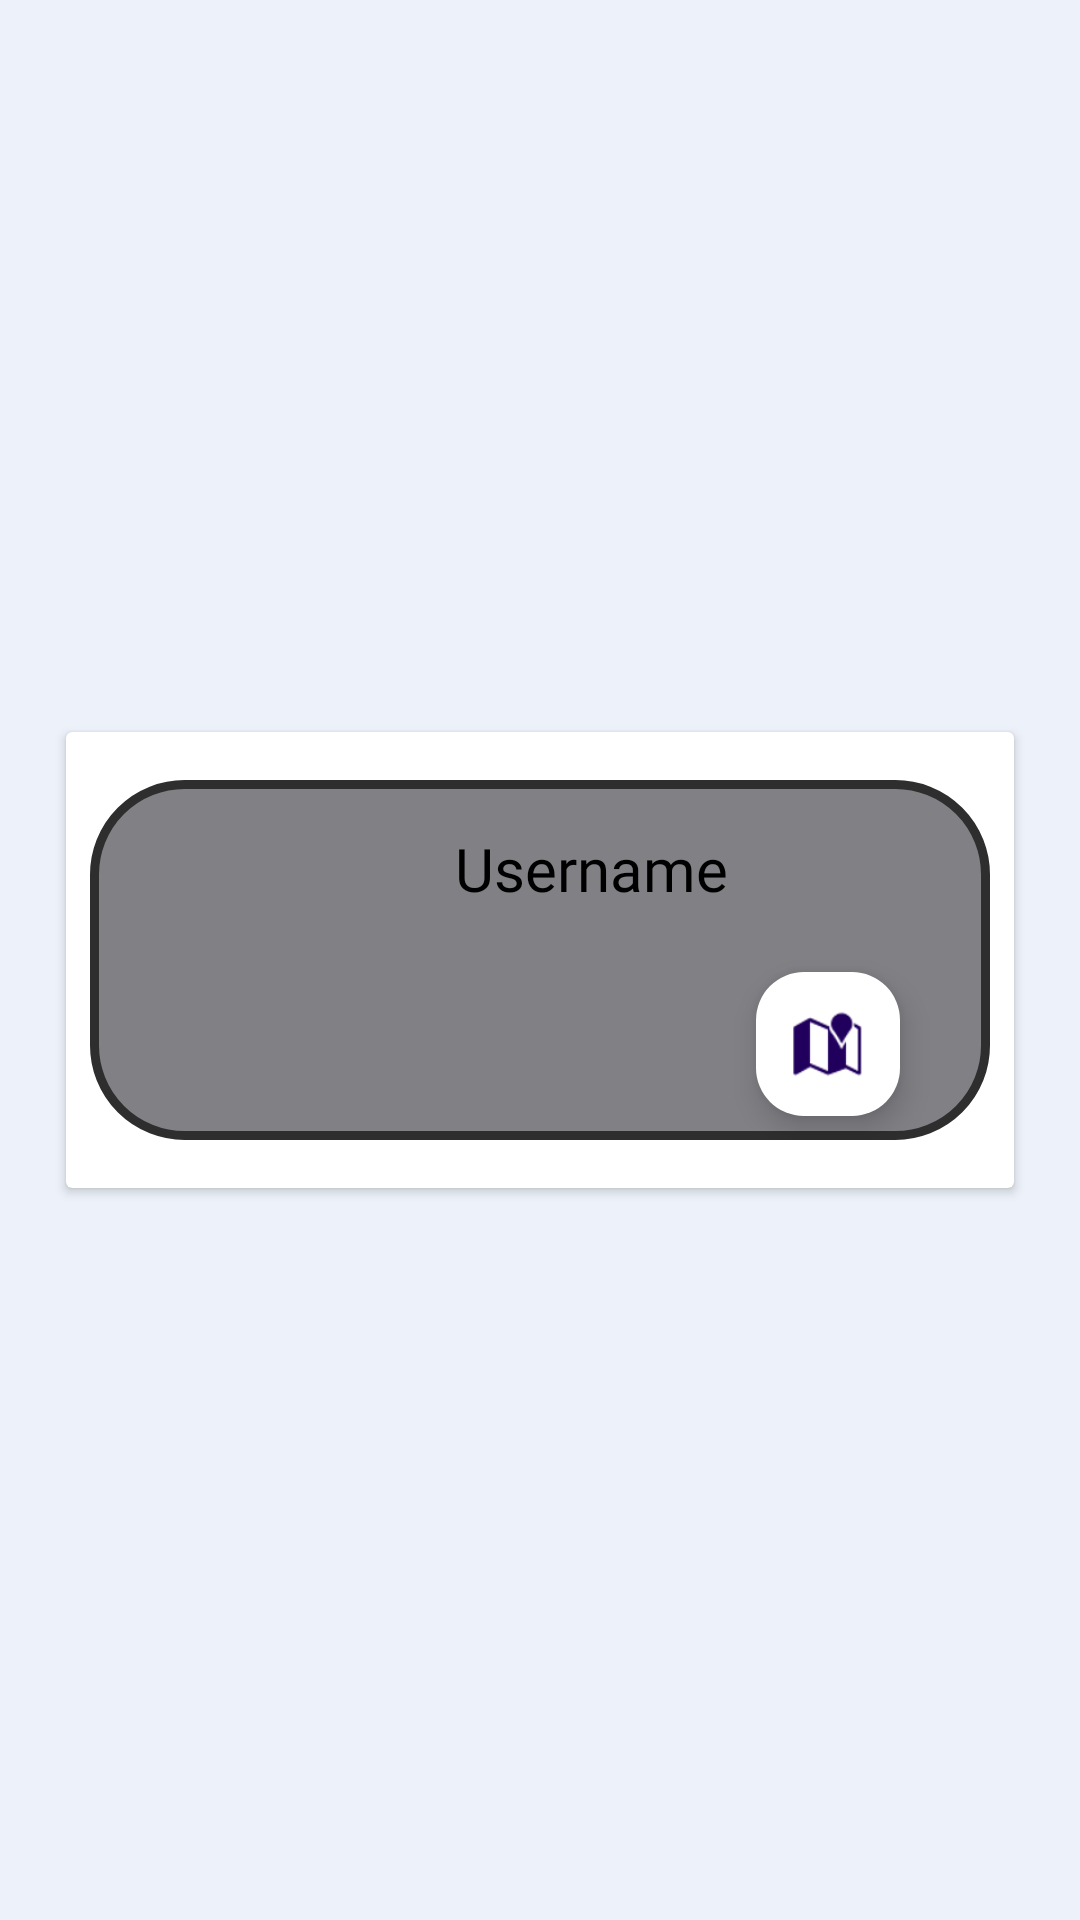

Icons on this 1080×1920 Android screen, each with the point to tap as [x,y]:
User location button: [828,1044]
